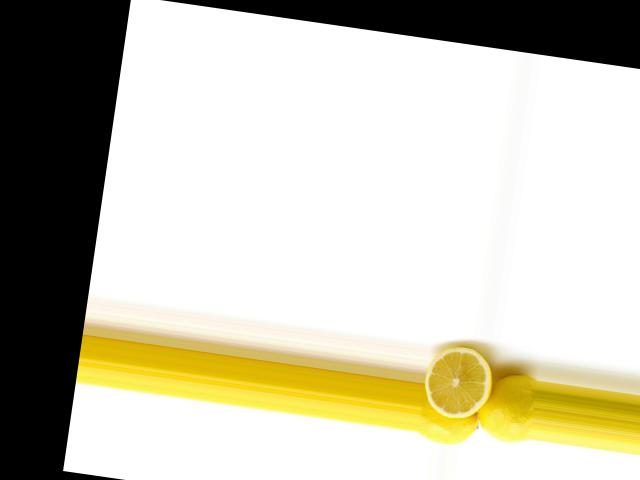lemon: (417, 383, 492, 446)
